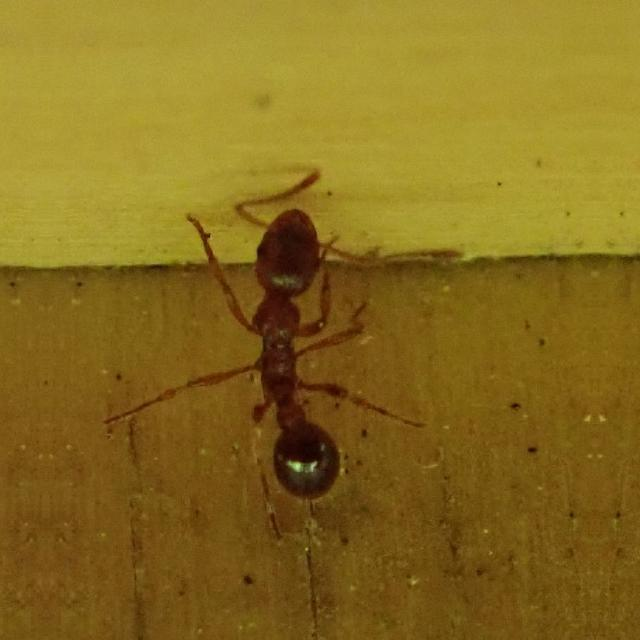Myrmica: (176, 152, 388, 522)
